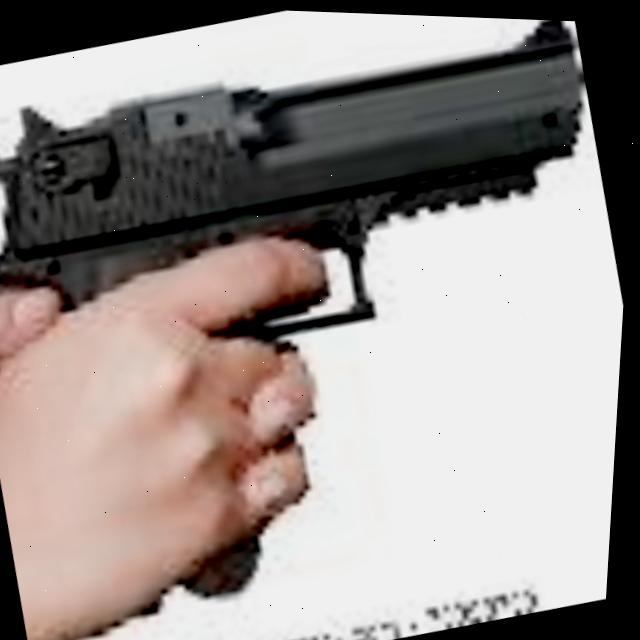pistol: (0, 0, 640, 640), (0, 16, 588, 640)
